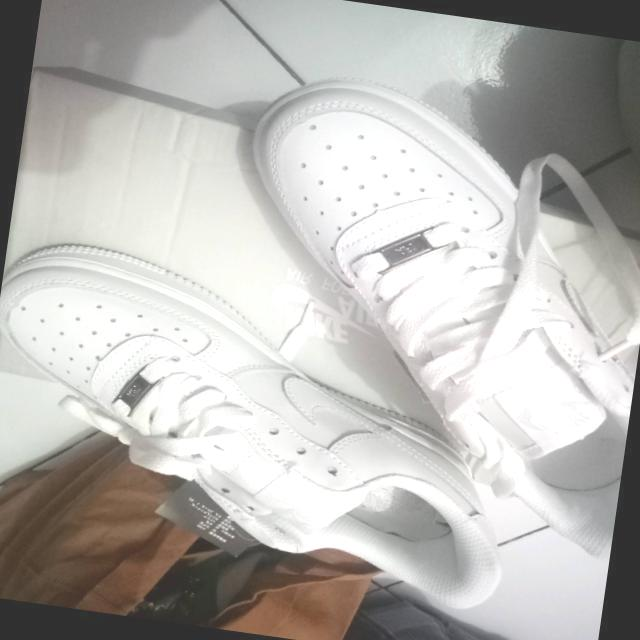nike_fake_airforce: (0, 234, 632, 629), (200, 66, 640, 565)
